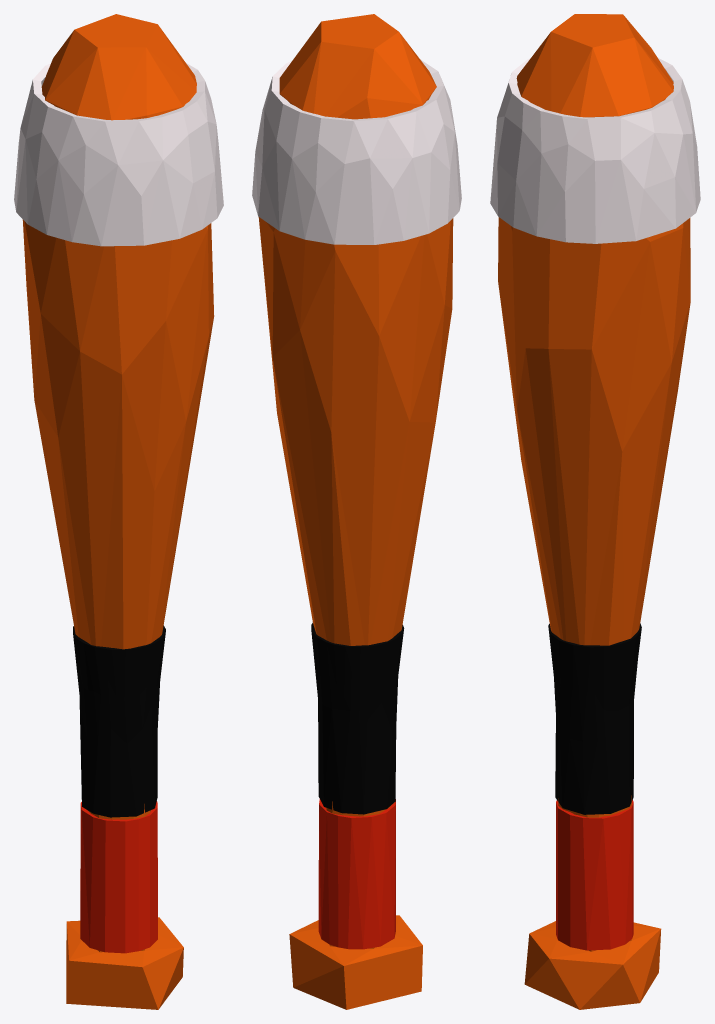
3 views of the same model, side by side, from view 1: azimuth 30°, elevation 25°; view 2: azimuth 150°, elevation 25°; view 3: azimuth 270°, elevation 25° (orthographic).
Parts seen in each view (by area): view 1: low poly baseball bat; view 2: low poly baseball bat; view 3: low poly baseball bat.
Part boxes in pixels (x1,y1,x2,y2): low poly baseball bat: (14,14,223,1009); low poly baseball bat: (252,14,461,1009); low poly baseball bat: (490,14,700,1009).
Size of the model in its own units: 0.3 by 1.5 by 0.3.
